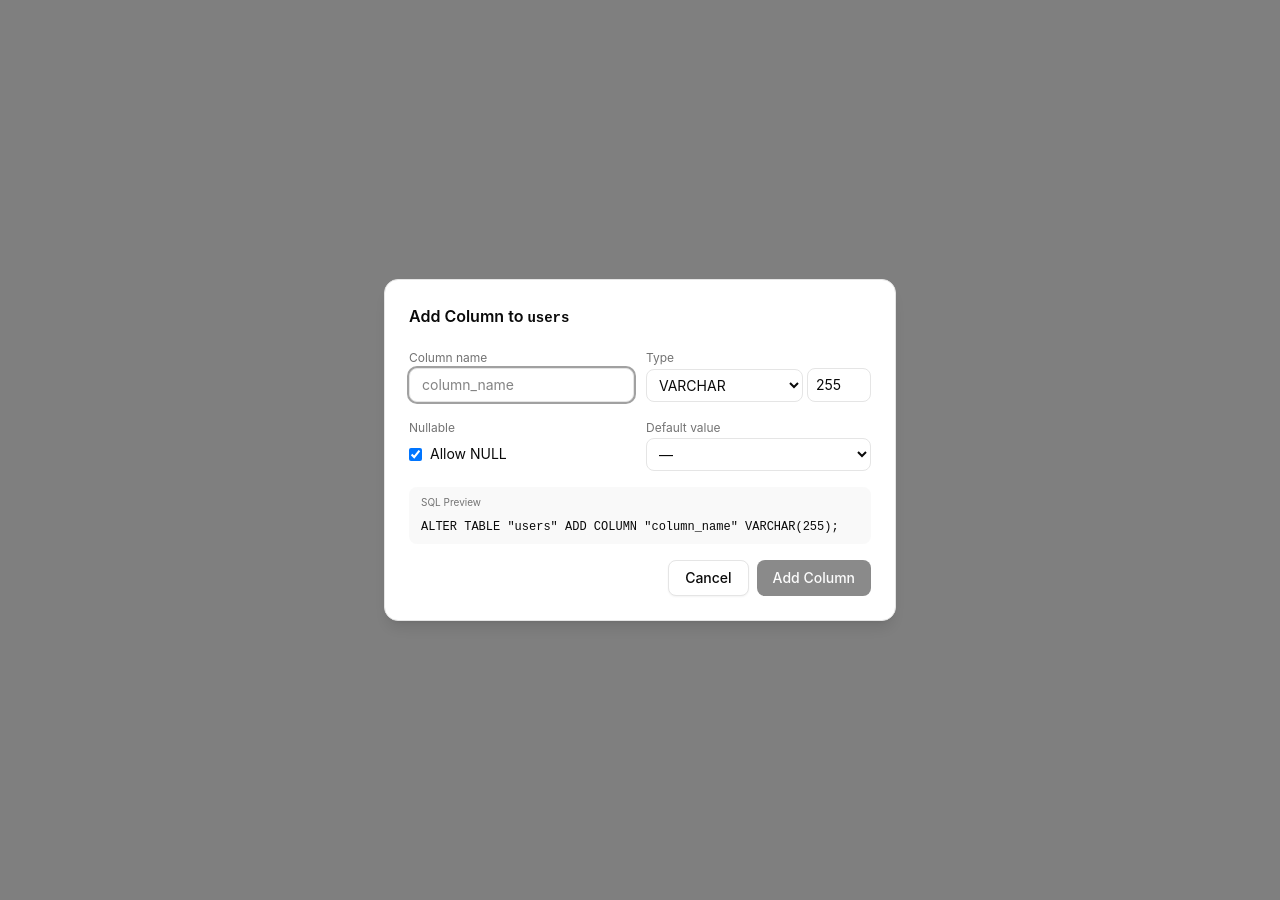
Test case: SQL preview — postgres quoting › includes NOT NULL after unchecking nullable
This screenshot has width=1280, height=900.
In the field with placeholder "column_name": (522, 385) x1=409 y1=368 x2=634 y2=402, type "email"
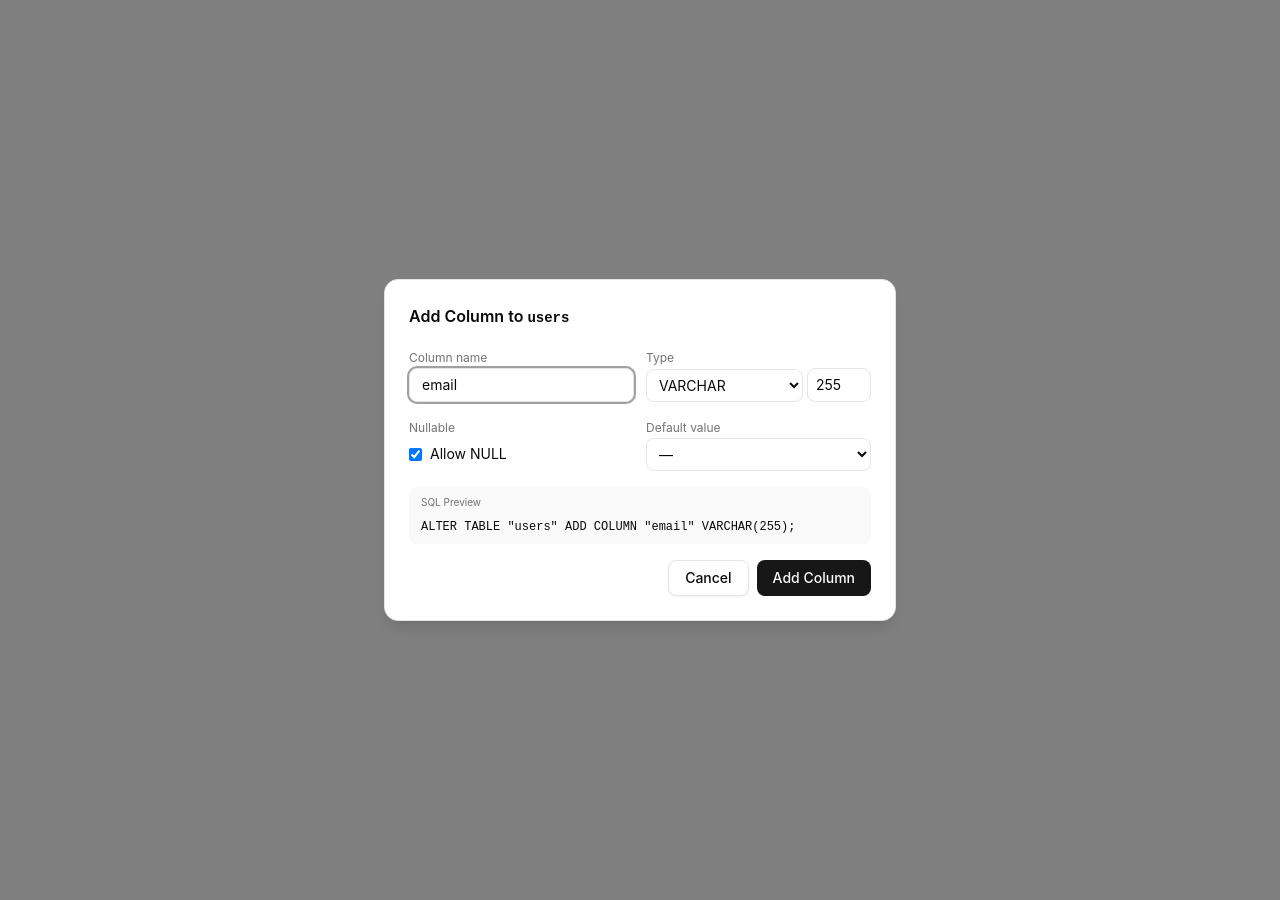
Click the checkbox: (416, 454) x1=409 y1=448 x2=422 y2=460
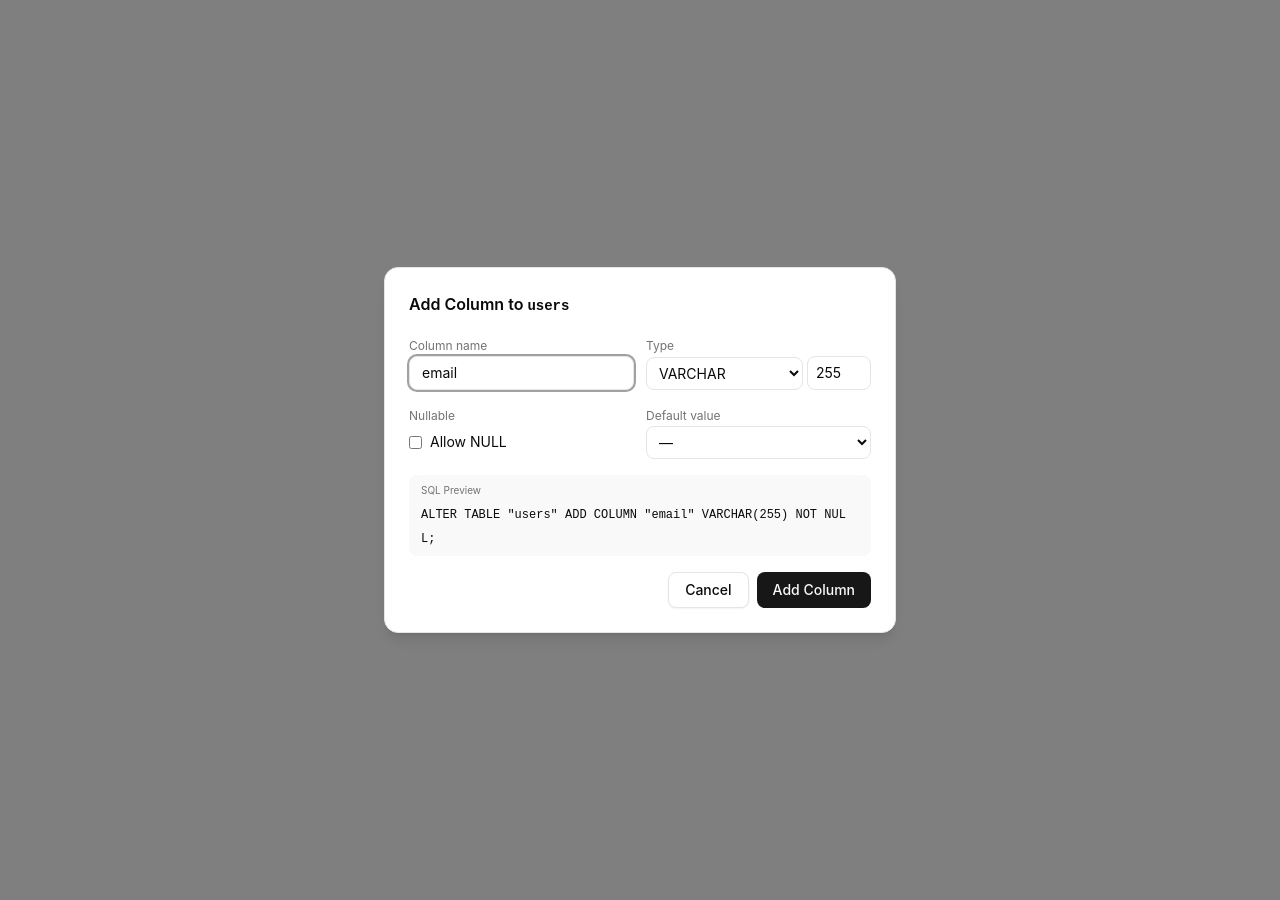
Expected: the text "ALTER TABLE" shows "NOT NULL", x1=421 y1=508 x2=846 y2=546
